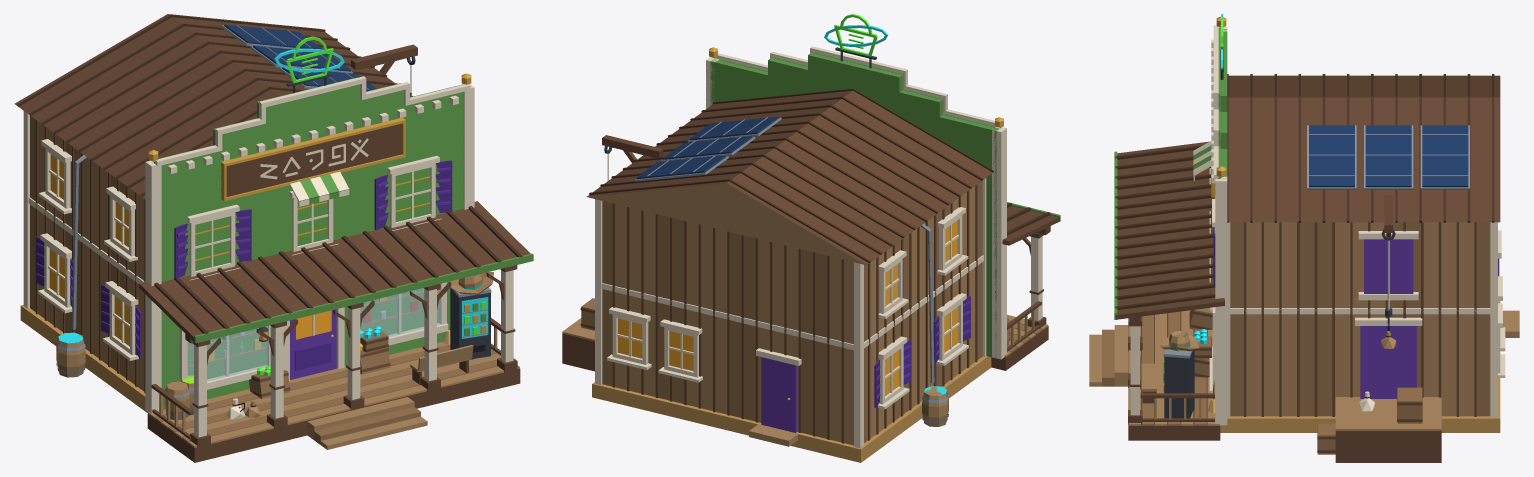
The model's file is Bldg_GeneralStore.obj.
The picture shows the model from 3 angles, left to right: view 1: azimuth 30°, elevation 25°; view 2: azimuth 150°, elevation 25°; view 3: azimuth 270°, elevation 25°; orthographic projection. The views are drawn at different scales.
Visible parts, largest first — view 1: Bldg_GeneralStore_Body, Bldg_GeneralStore_Door, Bldg_GeneralStore_Sign; view 2: Bldg_GeneralStore_Body, Bldg_GeneralStore_Sign; view 3: Bldg_GeneralStore_Body, Bldg_GeneralStore_Hook.
Part boxes in pixels (x1,y1,x2,y2): Bldg_GeneralStore_Body: (14, 14, 533, 462); Bldg_GeneralStore_Door: (290, 309, 336, 379); Bldg_GeneralStore_Sign: (274, 36, 344, 83); Bldg_GeneralStore_Body: (562, 46, 1060, 462); Bldg_GeneralStore_Sign: (824, 14, 888, 56); Bldg_GeneralStore_Body: (1089, 16, 1519, 462); Bldg_GeneralStore_Hook: (1381, 240, 1396, 348).
Size of the model in its own units: 12.33 by 10.69 by 12.15.
